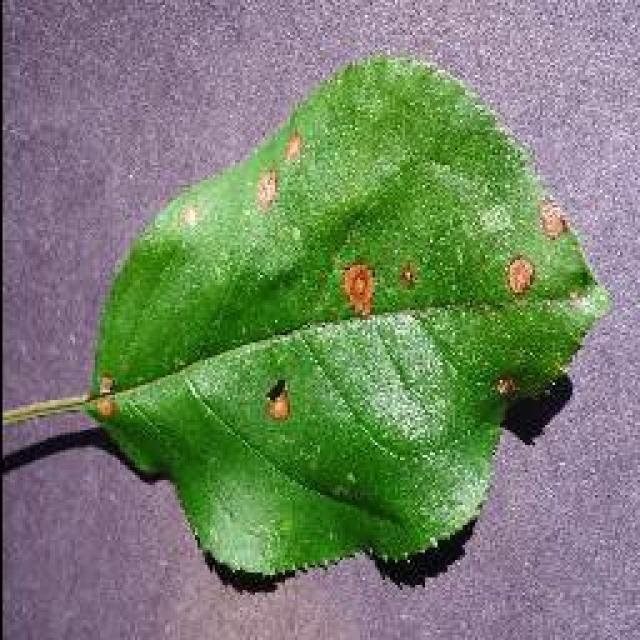Black_rot: (80, 50, 612, 588)
